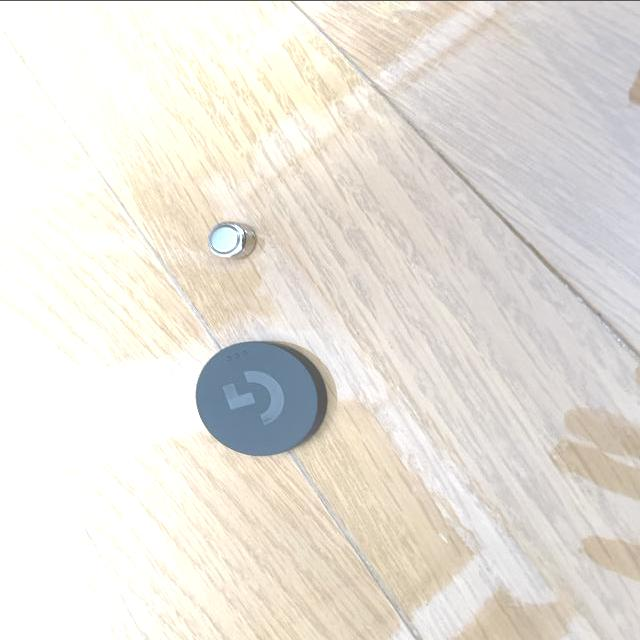COIN: (207, 220, 258, 259)
